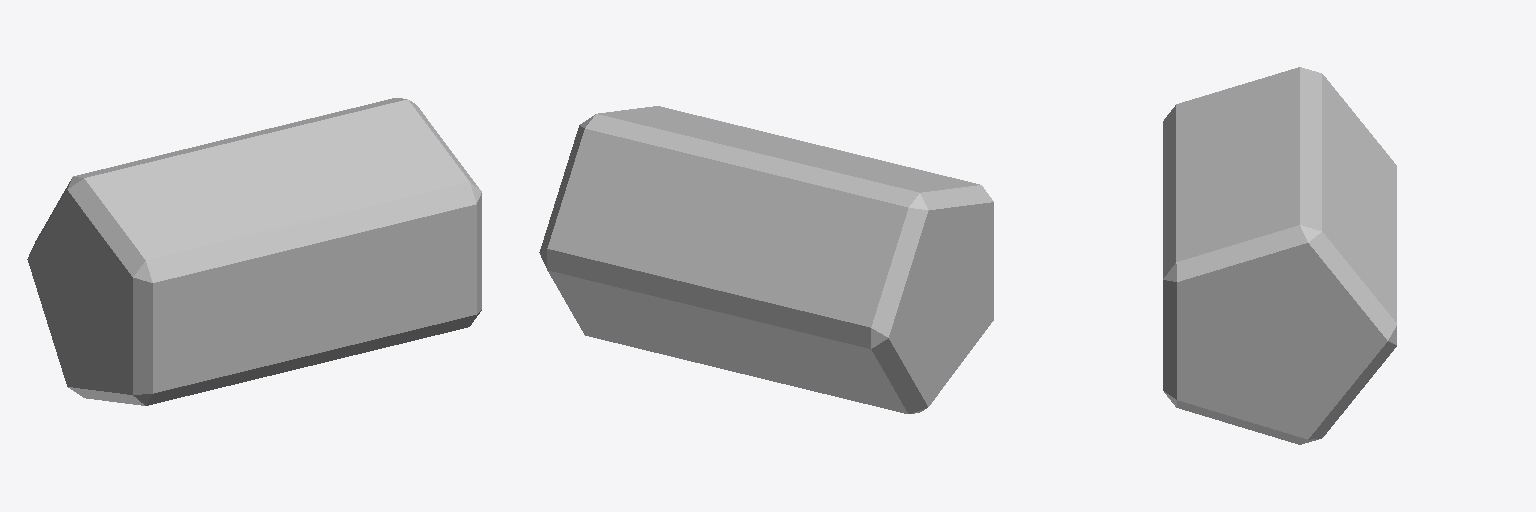
File: oolite_barrel2.obj
3 views of the same model, side by side, from view 1: azimuth 30°, elevation 25°; view 2: azimuth 150°, elevation 25°; view 3: azimuth 270°, elevation 25° (orthographic).
Parts seen in each view (by area): view 1: baz2.obj; view 2: baz2.obj; view 3: baz2.obj.
Boxes of the visible parts, x1,y1,x2,y2 form: baz2.obj: [27, 98, 481, 405]; baz2.obj: [539, 106, 993, 413]; baz2.obj: [1163, 67, 1396, 444].
Size of the model in its own units: 9.6 by 5.78 by 5.59.